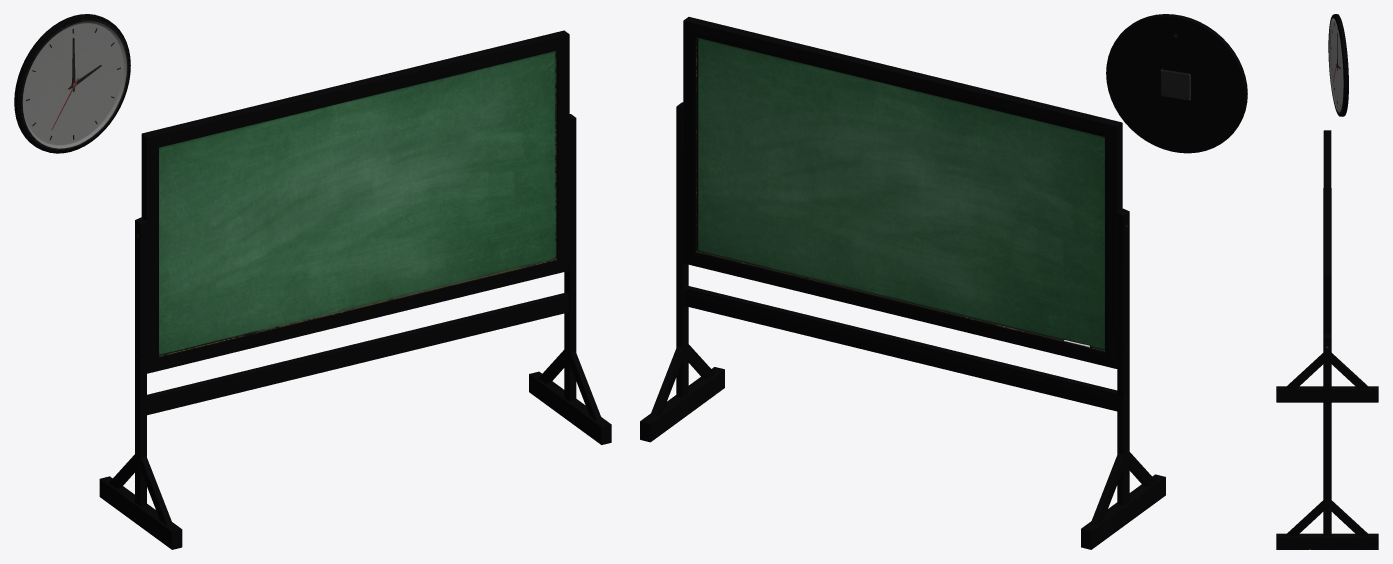
File: chalkboard_and_clock.glb
3 renders of one model, left to right at view 1: azimuth 30°, elevation 25°; view 2: azimuth 150°, elevation 25°; view 3: azimuth 270°, elevation 25°, orthographic. The views are drawn at different scales.
Parts seen in each view (by area): view 1: node_id75_0, node_id43_2; view 2: node_id75_0, node_id43_2; view 3: node_id75_0, node_id43_2.
Part boxes in pixels (left/top/right/bottom): node_id75_0: left=99, top=30, right=611, bottom=549; node_id43_2: left=14, top=14, right=130, bottom=153; node_id75_0: left=640, top=17, right=1165, bottom=549; node_id43_2: left=1106, top=14, right=1247, bottom=153; node_id75_0: left=1276, top=130, right=1378, bottom=549; node_id43_2: left=1328, top=14, right=1348, bottom=116.
Bounding box in the file's own units: 0.44 × 0.3871 × 0.0991.
Materials: 2 (2 with a texture image).
